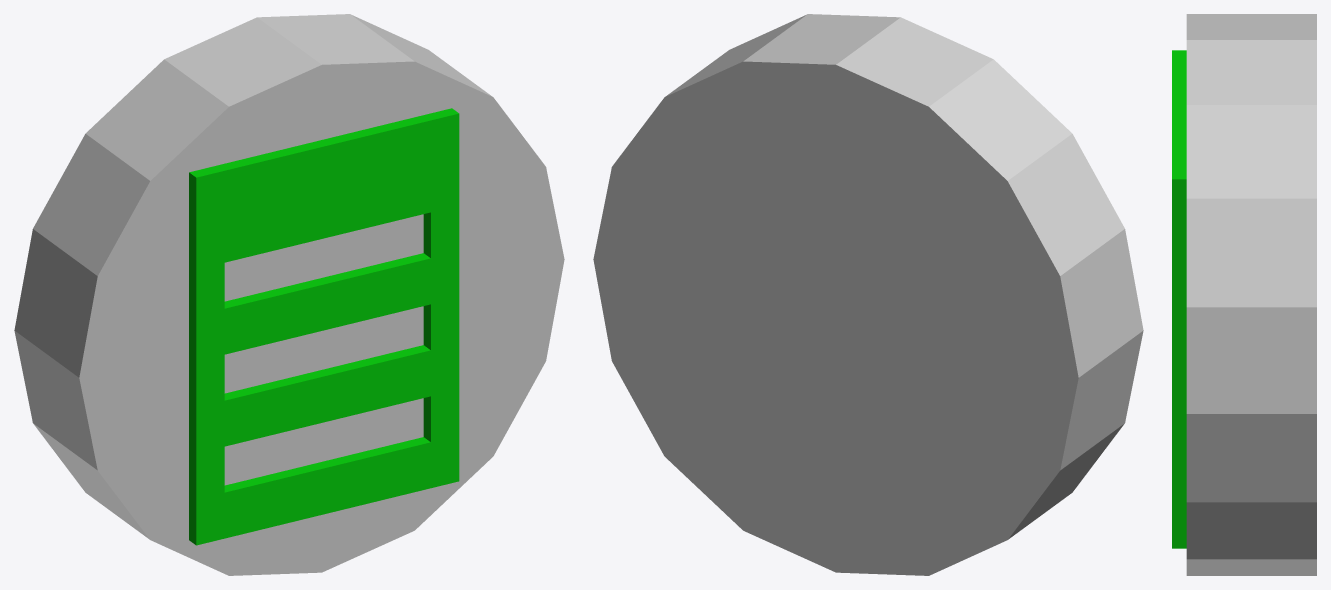
Rendered from monitor.fbx.
3 renders of one model, left to right at view 1: azimuth 30°, elevation 25°; view 2: azimuth 150°, elevation 25°; view 3: azimuth 270°, elevation 25°, orthographic.
Visible parts, largest first — view 1: Cube; view 2: Cube; view 3: Cube.
Part boxes in pixels (box(x1,y1,x2,y2)): Cube: box(14, 14, 564, 575); Cube: box(593, 14, 1143, 575); Cube: box(1172, 14, 1316, 575).
Size of the model in its own units: 2 by 2 by 0.5148.
